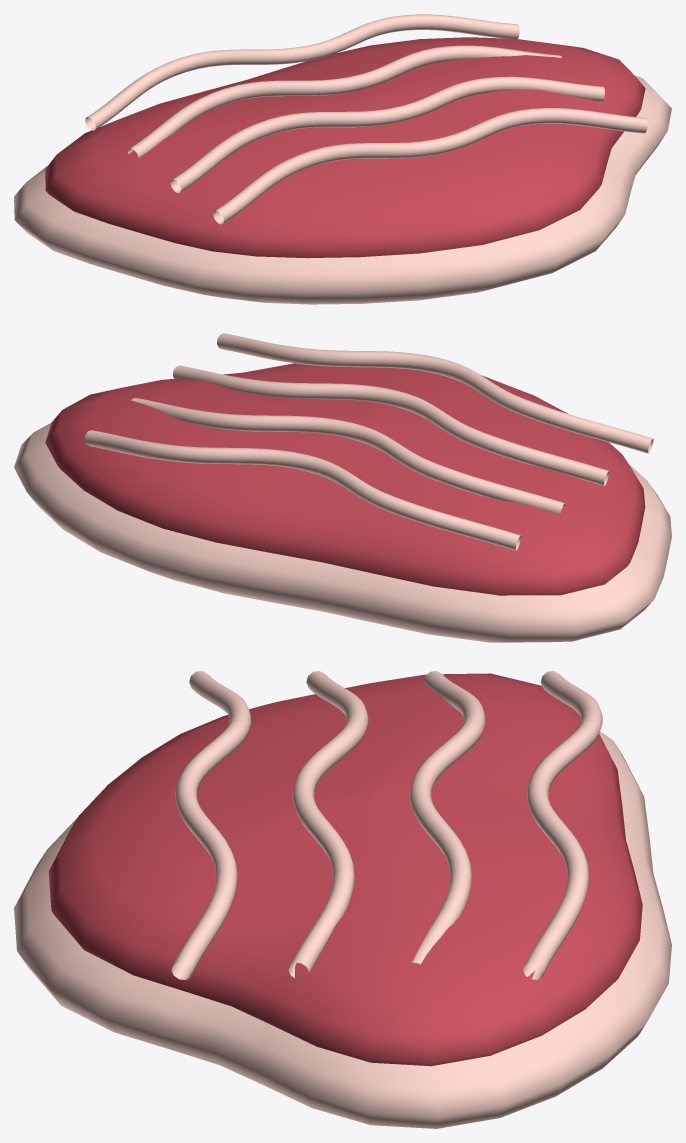
The model's file is sirloin-steak.glb.
3 renders of one model, top to bottom at view 1: azimuth 30°, elevation 25°; view 2: azimuth 150°, elevation 25°; view 3: azimuth 270°, elevation 25°, orthographic. The views are drawn at different scales.
Parts seen in each view (by area): view 1: sirloin-steak_mesh; view 2: sirloin-steak_mesh; view 3: sirloin-steak_mesh.
Boxes of the visible parts, bbox=[...] form: sirloin-steak_mesh: bbox=[14, 14, 671, 304]; sirloin-steak_mesh: bbox=[14, 333, 671, 642]; sirloin-steak_mesh: bbox=[14, 671, 671, 1128].
Size of the model in its own units: 0.2699 by 0.0632 by 0.1825.
